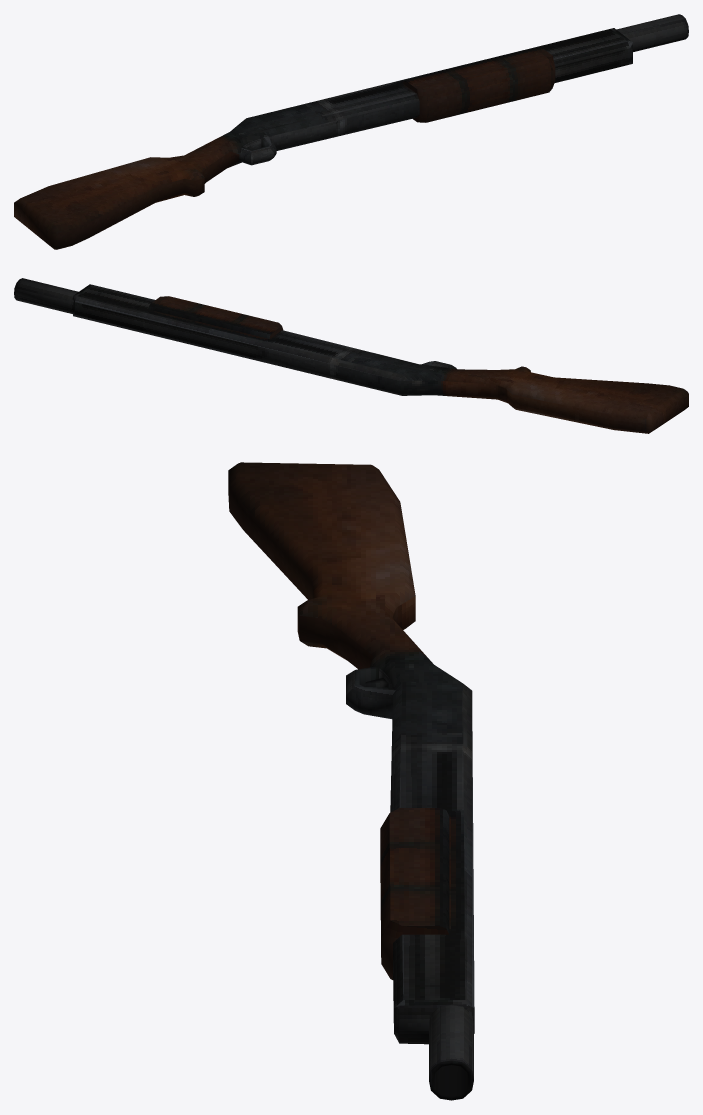
The model's file is shotgun_1.glb.
3 renders of one model, top to bottom at view 1: azimuth 30°, elevation 25°; view 2: azimuth 150°, elevation 25°; view 3: azimuth 270°, elevation 25°, orthographic. The views are drawn at different scales.
Parts seen in each view (by area): view 1: shotgun_1; view 2: shotgun_1; view 3: shotgun_1.
Boxes of the visible parts, bbox=[...] form: shotgun_1: bbox=[14, 14, 688, 249]; shotgun_1: bbox=[14, 278, 688, 433]; shotgun_1: bbox=[228, 462, 474, 1100].
Size of the model in its own units: 1.44 by 0.0655 by 0.2485.
1 material, 1 textured.
